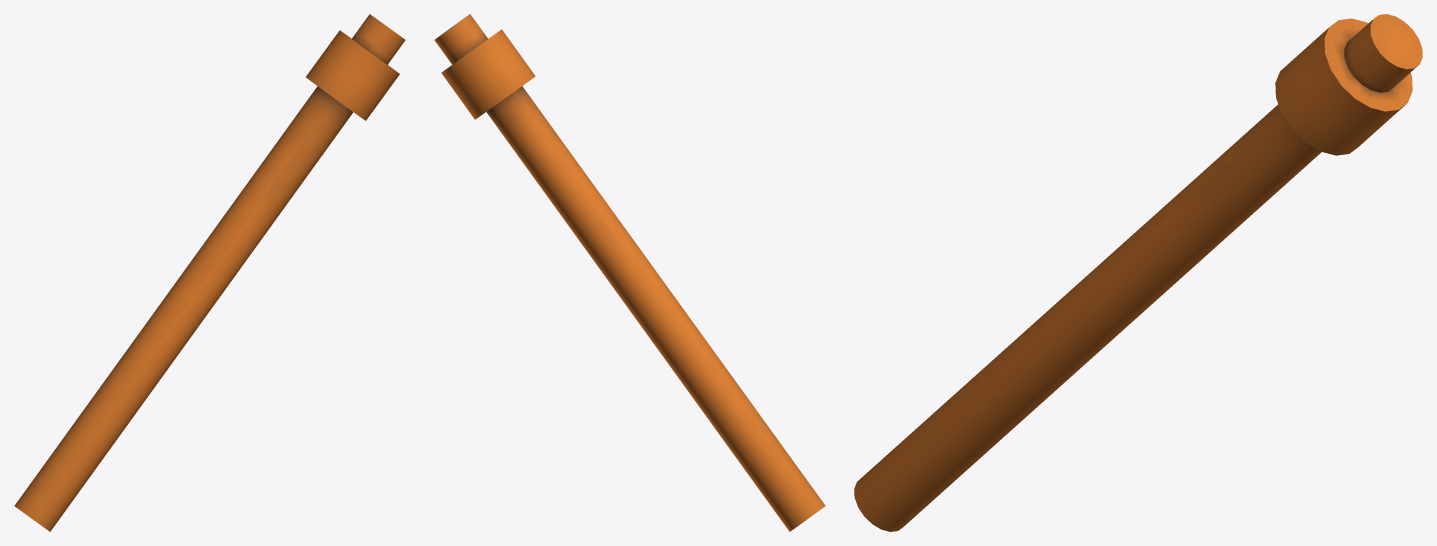
The model's file is zx200-bucket-cyl1.dae.
3 views of the same model, side by side, from view 1: azimuth 30°, elevation 25°; view 2: azimuth 150°, elevation 25°; view 3: azimuth 330°, elevation 25° (orthographic). The views are drawn at different scales.
Visible parts, largest first — view 1: arm-bac-cyl1.002; view 2: arm-bac-cyl1.002; view 3: arm-bac-cyl1.002.
Part boxes in pixels (box(x1,y1,x2,y2)): arm-bac-cyl1.002: box(14, 14, 405, 531); arm-bac-cyl1.002: box(434, 14, 825, 531); arm-bac-cyl1.002: box(854, 14, 1422, 531).
Bounding box in the file's own units: 1.07 × 0.1827 × 1.15.
Materials: 1 (1 with a texture image).
